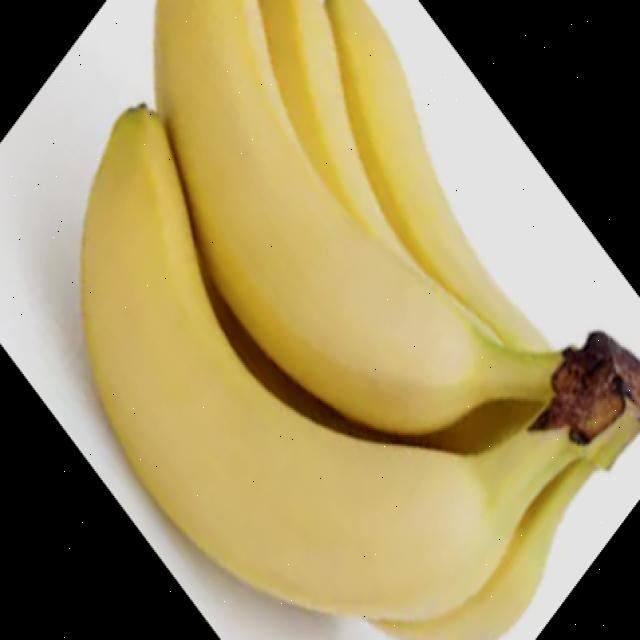god quality banana: (80, 2, 640, 638)
